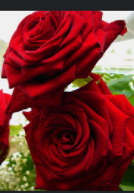RedRose: (1, 12, 129, 110), (23, 80, 133, 191)
